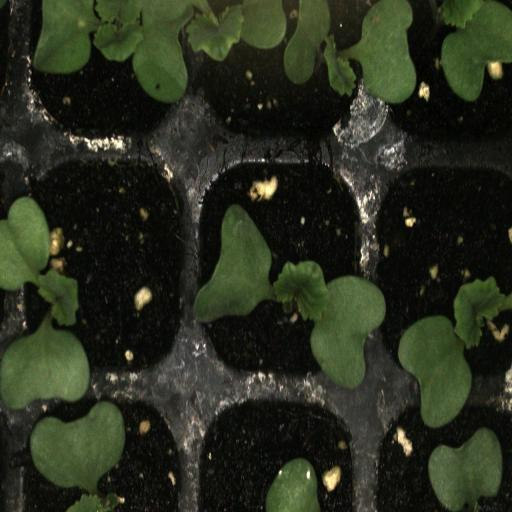seedling: (188, 148, 369, 394), (15, 150, 187, 392), (374, 150, 512, 388), (18, 0, 186, 146)
twoseedling: (184, 0, 371, 148)
